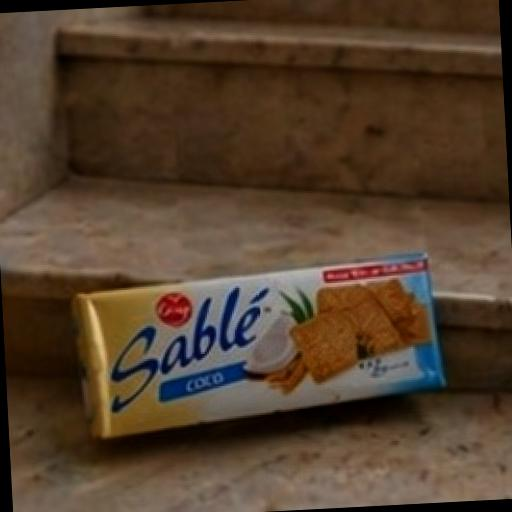sable: (42, 210, 510, 494)
